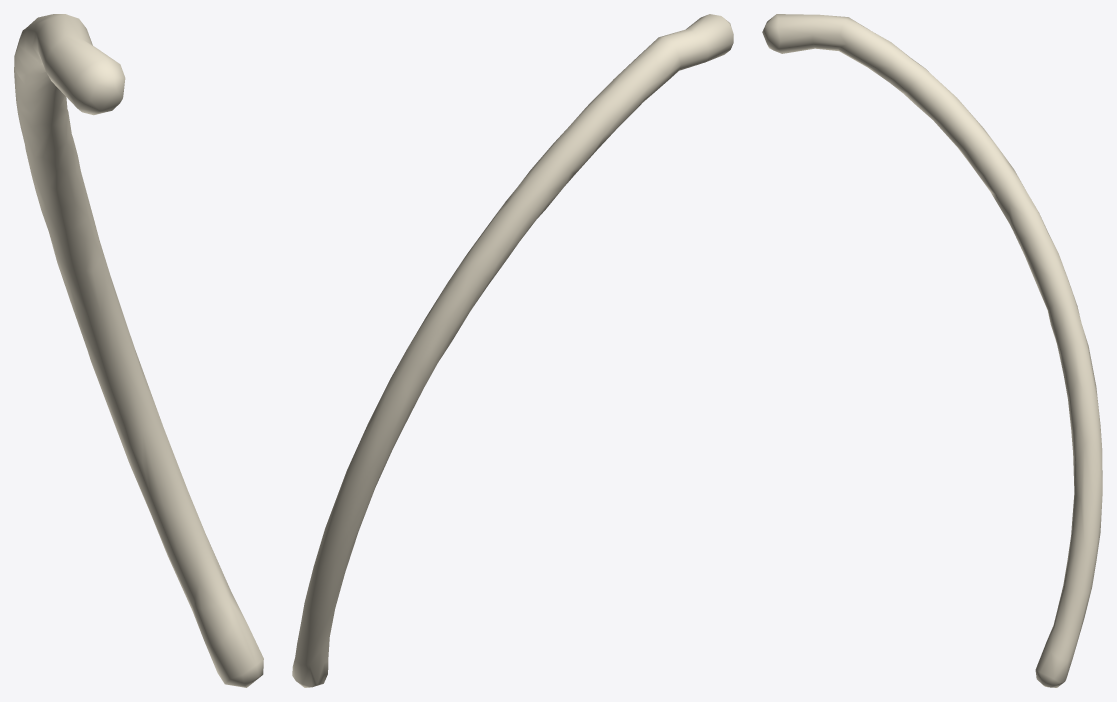
The model's file is rib_12_r.glb.
The picture shows the model from 3 angles, left to right: view 1: azimuth 30°, elevation 25°; view 2: azimuth 150°, elevation 25°; view 3: azimuth 270°, elevation 25°; orthographic projection. The views are drawn at different scales.
Visible parts, largest first — view 1: geometry_0; view 2: geometry_0; view 3: geometry_0.
Part boxes in pixels (box(x1,y1,x2,y2)): geometry_0: box(14, 14, 263, 687); geometry_0: box(292, 14, 733, 687); geometry_0: box(762, 14, 1102, 687).
Size of the model in its own units: 0.3667 by 0.7588 by 0.4169.
